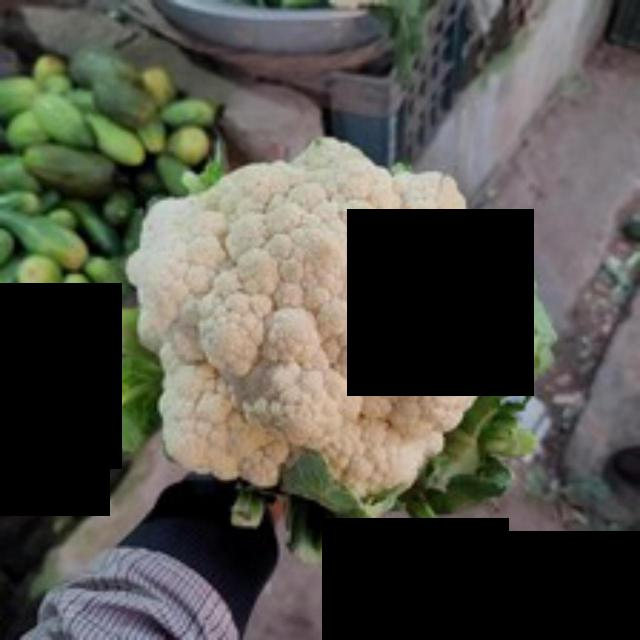cauliflower: (117, 132, 513, 518)
